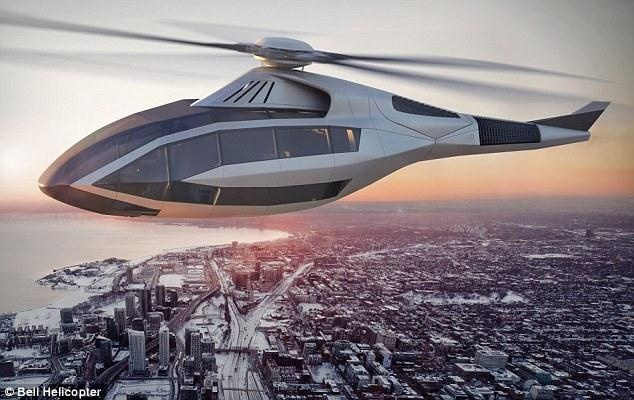airplane: (30, 23, 614, 219)
